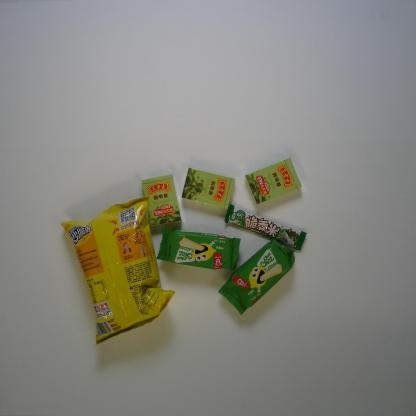Candy: (244, 157, 303, 205), (180, 166, 236, 210), (140, 173, 182, 227)
Chocolate: (224, 203, 308, 251)
Dessert: (218, 236, 296, 315), (156, 227, 242, 271)
Puffed Food: (60, 195, 176, 348)
